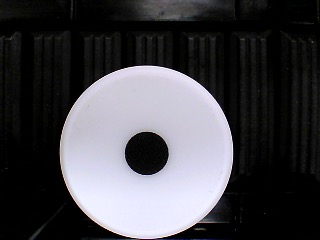BOHO: (58, 65, 234, 240)
